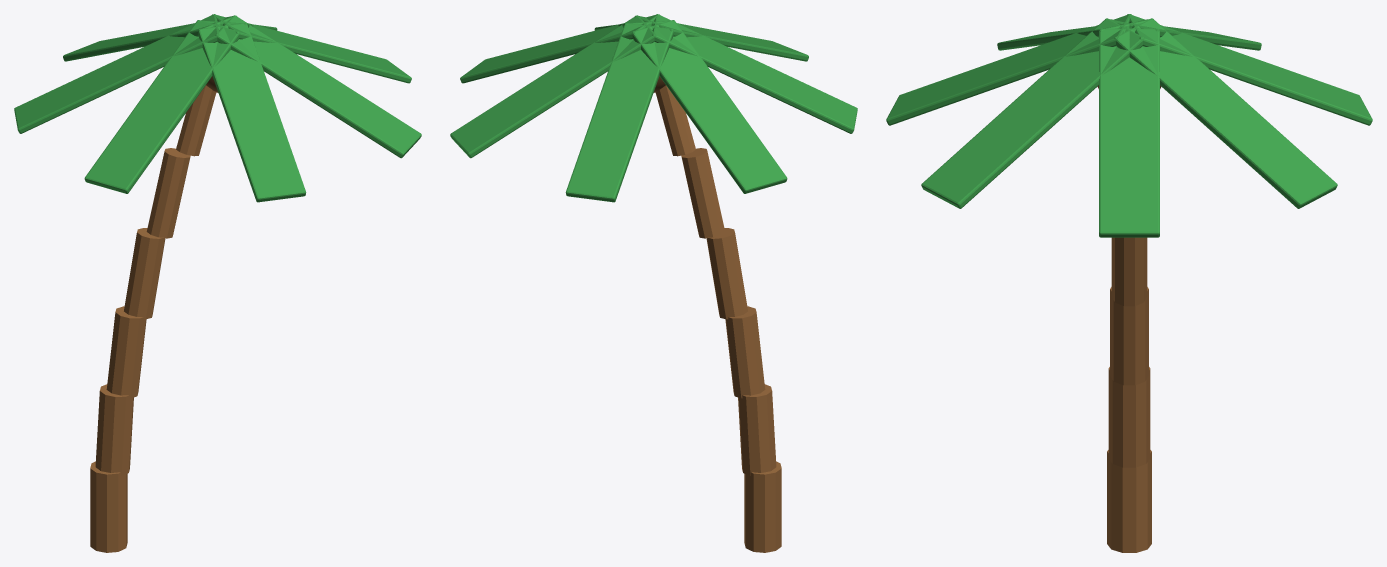
The model's file is palm_tree_day.glb.
3 views of the same model, side by side, from view 1: azimuth 30°, elevation 25°; view 2: azimuth 150°, elevation 25°; view 3: azimuth 270°, elevation 25° (orthographic). The views are drawn at different scales.
Parts seen in each view (by area): view 1: frond5, frond4, frond6, frond3, trunk0, frond0, trunk1, trunk2, trunk3, trunk4, frond2, trunk5; view 2: frond2, frond3, frond1, frond4, trunk0, frond0, trunk1, trunk2, trunk3, trunk4, frond5, trunk5; view 3: frond0, frond6, frond1, frond2, frond5, trunk0, trunk1, trunk2, trunk3, frond3, frond4.
Part boxes in pixels (x1,y1,x2,y2): frond5: (198,23,306,202); frond4: (84,20,239,193); frond6: (215,15,421,158); frond3: (14,14,219,133); trunk0: (90,461,127,552); frond0: (212,14,411,83); trunk1: (95,384,133,475); trunk2: (106,306,146,398); trunk3: (124,228,165,319); trunk4: (146,148,190,238); frond2: (63,15,237,61); trunk5: (176,85,216,156); frond2: (565,23,673,202); frond3: (632,20,787,193); frond1: (450,15,656,158); frond4: (652,14,857,133); trunk0: (744,461,781,552); frond0: (460,14,659,83); trunk1: (738,384,776,475); trunk2: (725,306,765,398); trunk3: (706,228,747,319); trunk4: (681,148,725,238); frond5: (634,15,808,61); trunk5: (655,85,695,156); frond0: (1099,28,1159,237); frond6: (921,18,1144,208); frond1: (1114,18,1337,208); frond2: (1127,14,1372,125); frond5: (886,14,1131,125); trunk0: (1107,450,1151,552); trunk1: (1108,367,1150,467); trunk2: (1110,287,1148,385); trunk3: (1111,237,1147,306); frond3: (1104,19,1261,50); frond4: (997,19,1154,50).
Bounding box in the file's own units: 4.65 × 6.29 × 4.77.
